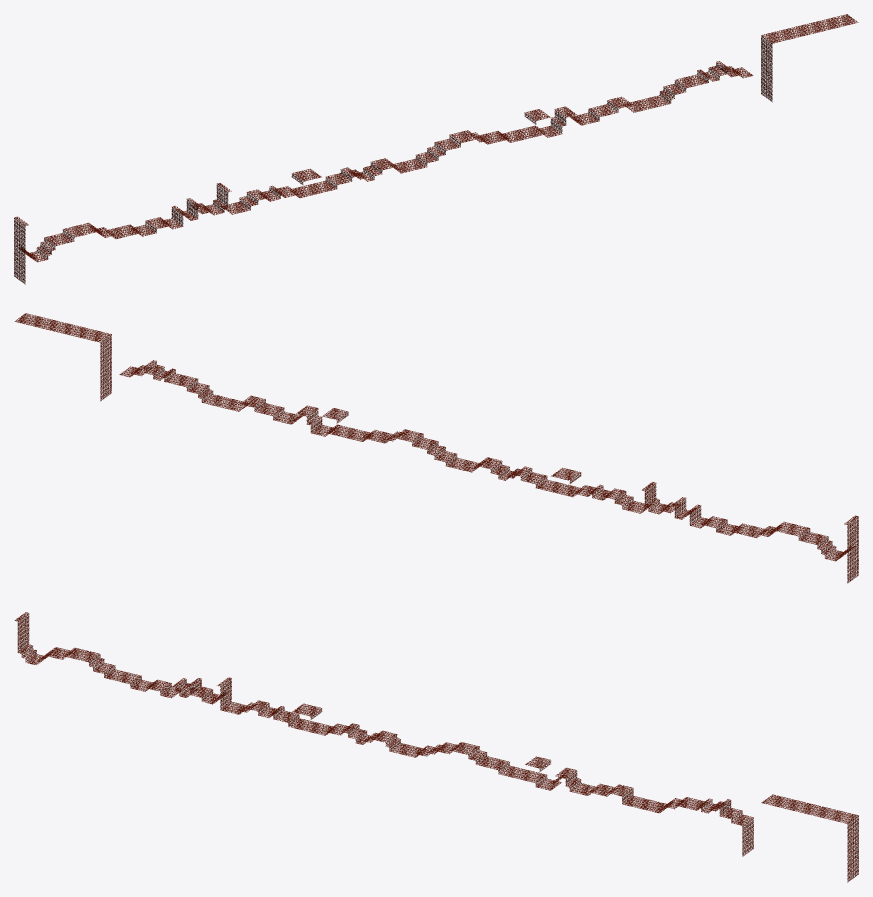
File: Luna2Rachadura13.glb
3 views of the same model, one above another, from view 1: azimuth 30°, elevation 25°; view 2: azimuth 150°, elevation 25°; view 3: azimuth 330°, elevation 25° (orthographic).
Visible parts, largest first — view 1: Setor_1, Setor_4, Setor_6, Setor_2, Setor_5, Setor_3, Setor_0, Setor_-1; view 2: Setor_1, Setor_4, Setor_6, Setor_2, Setor_5, Setor_3, Setor_0, Setor_-1; view 3: Setor_6, Setor_0, Setor_4, Setor_2, Setor_1, Setor_5, Setor_3.
Boxes of the visible parts, x1,y1,x2,y2 form: Setor_1: (134, 183, 265, 235); Setor_4: (495, 98, 625, 142); Setor_6: (735, 14, 858, 102); Setor_2: (255, 161, 385, 201); Setor_5: (615, 61, 745, 112); Setor_3: (375, 130, 505, 173); Setor_0: (14, 216, 145, 262); Setor_-1: (14, 218, 25, 284); Setor_1: (607, 482, 737, 534); Setor_4: (247, 397, 377, 441); Setor_6: (14, 313, 137, 401); Setor_2: (487, 460, 617, 500); Setor_5: (127, 360, 257, 411); Setor_3: (367, 429, 497, 472); Setor_0: (727, 515, 858, 561); Setor_-1: (847, 517, 858, 583); Setor_6: (735, 794, 858, 882); Setor_0: (14, 612, 144, 688); Setor_4: (495, 756, 625, 796); Setor_2: (255, 702, 385, 744); Setor_1: (134, 677, 265, 714); Setor_5: (615, 786, 745, 823); Setor_3: (375, 731, 505, 769).
Size of the model in its own units: 231 by 15.6 by 5.6.
Materials: 1 (1 with a texture image).
